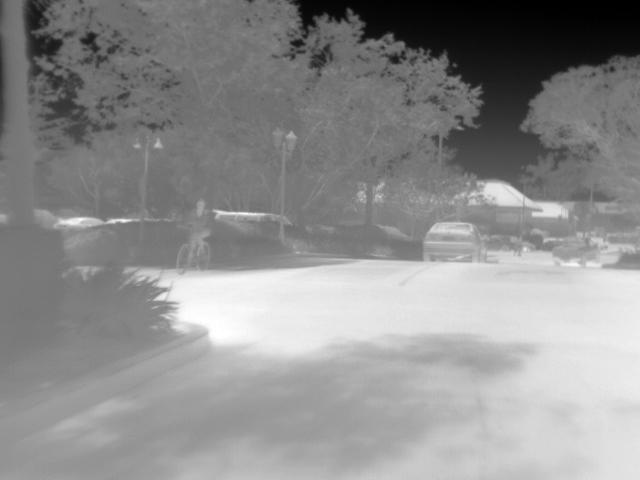car: (421, 220, 488, 264), (552, 236, 600, 266), (215, 210, 280, 224), (489, 235, 536, 253)
person: (185, 196, 214, 254), (513, 236, 523, 257)
